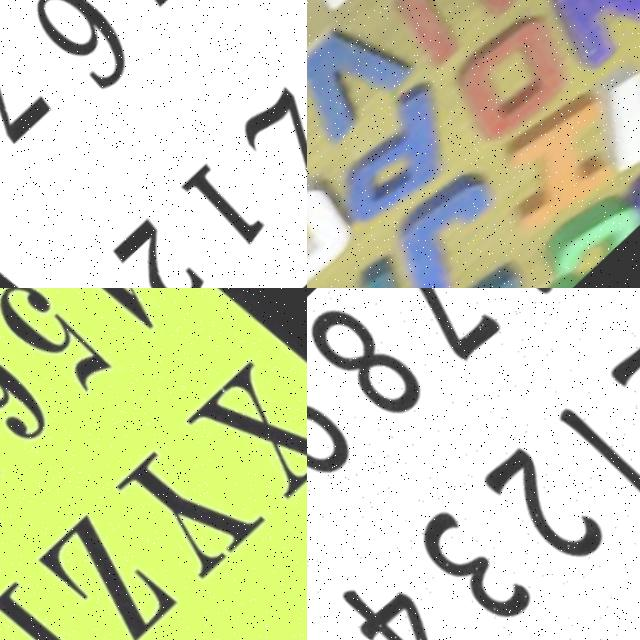1: (528, 375, 640, 540), (160, 146, 283, 275), (0, 554, 129, 640)
2: (449, 415, 639, 615), (87, 195, 226, 288)
3: (381, 483, 555, 640)
4: (315, 542, 491, 640), (11, 288, 190, 370)
5: (0, 288, 132, 427), (57, 0, 217, 40)
6: (2, 0, 163, 126), (0, 301, 69, 473), (411, 288, 602, 342)
7: (352, 288, 523, 396), (0, 5, 79, 180)
8: (307, 288, 456, 457)
9: (307, 327, 384, 519)
D: (397, 254, 548, 288)
H: (568, 20, 640, 190)
I: (474, 86, 640, 249)
J: (364, 155, 528, 288)
K: (307, 254, 424, 288)
N: (530, 0, 640, 81)
O: (433, 0, 593, 157)
P: (313, 66, 486, 235)
Q: (307, 158, 366, 288)
U: (364, 0, 526, 87)
V: (307, 10, 411, 153)
